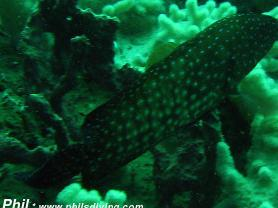Serranidae -Groupers-: (16, 11, 278, 191)
